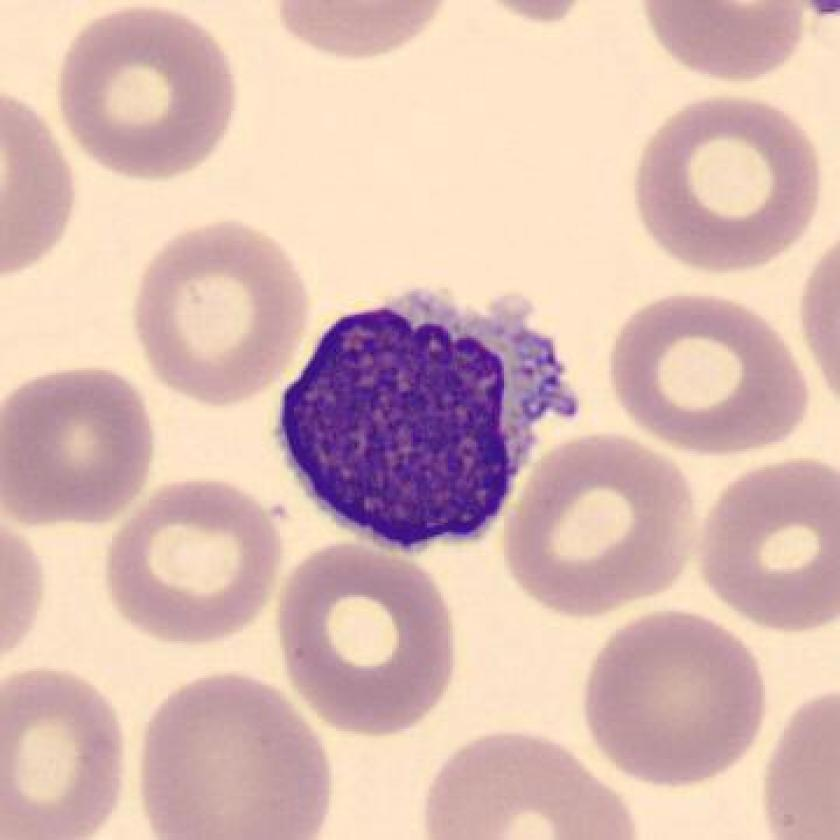lymphocyte: (267, 270, 594, 573)
